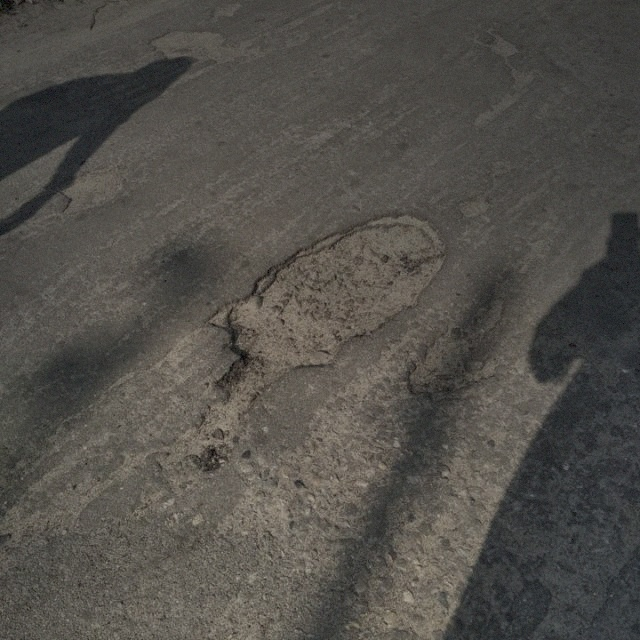pothole: (189, 209, 447, 436), (404, 292, 510, 399), (461, 28, 538, 129), (52, 163, 132, 215), (150, 28, 238, 70), (455, 193, 492, 219), (210, 0, 242, 21)
